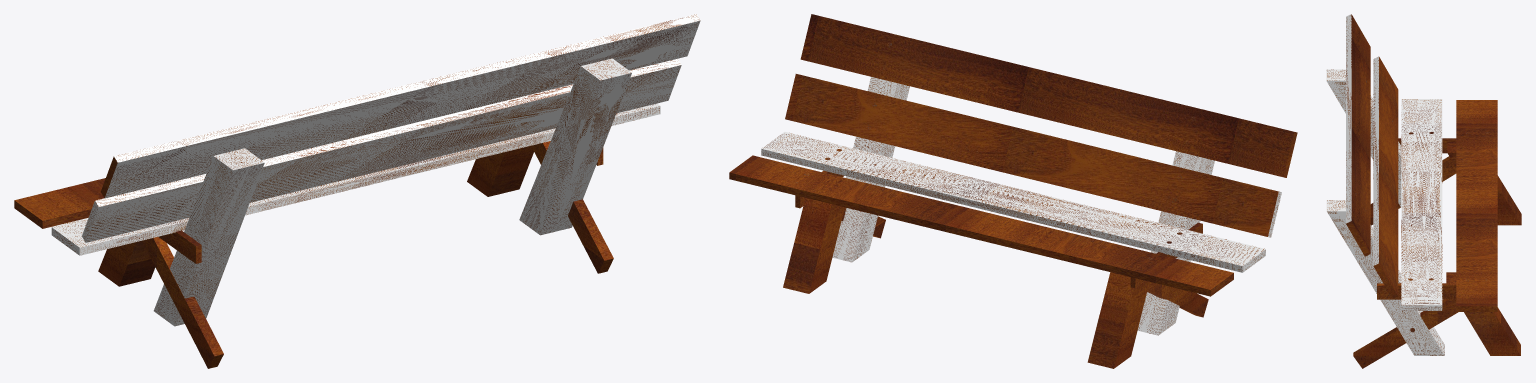
3 views of the same model, side by side, from view 1: azimuth 30°, elevation 25°; view 2: azimuth 150°, elevation 25°; view 3: azimuth 270°, elevation 25° (orthographic). The views are drawn at different scales.
Parts seen in each view (by area): view 1: mesh9_mesh9-geometry, mesh8_mesh8-geometry, mesh2_mesh2-geometry, mesh1_mesh1-geometry, mesh3_mesh3-geometry, mesh7_mesh7-geometry, mesh4_mesh4-geometry, mesh6_mesh6-geometry; view 2: mesh9_mesh9-geometry, mesh8_mesh8-geometry, mesh3_mesh3-geometry, mesh7_mesh7-geometry, mesh4_mesh4-geometry, mesh2_mesh2-geometry, mesh1_mesh1-geometry; view 3: mesh3_mesh3-geometry, mesh7_mesh7-geometry, mesh8_mesh8-geometry, mesh9_mesh9-geometry, mesh2_mesh2-geometry, mesh4_mesh4-geometry, mesh1_mesh1-geometry, mesh5_mesh5-geometry.
Boxes of the visible parts, x1,y1,x2,y2 form: mesh9_mesh9-geometry: (101, 14, 700, 198); mesh8_mesh8-geometry: (82, 58, 681, 242); mesh2_mesh2-geometry: (519, 58, 631, 235); mesh1_mesh1-geometry: (153, 148, 264, 326); mesh3_mesh3-geometry: (14, 141, 613, 273); mesh7_mesh7-geometry: (51, 103, 660, 255); mesh4_mesh4-geometry: (98, 237, 223, 368); mesh6_mesh6-geometry: (158, 230, 201, 263); mesh9_mesh9-geometry: (800, 14, 1297, 177); mesh8_mesh8-geometry: (785, 74, 1281, 237); mesh3_mesh3-geometry: (729, 155, 1233, 296); mesh7_mesh7-geometry: (761, 132, 1265, 272); mesh4_mesh4-geometry: (1087, 272, 1208, 368); mesh2_mesh2-geometry: (832, 77, 909, 262); mesh1_mesh1-geometry: (1137, 151, 1214, 335); mesh3_mesh3-geometry: (1353, 100, 1520, 368); mesh7_mesh7-geometry: (1401, 99, 1442, 310); mesh8_mesh8-geometry: (1373, 56, 1398, 298); mesh9_mesh9-geometry: (1346, 14, 1370, 256); mesh2_mesh2-geometry: (1326, 200, 1444, 355); mesh4_mesh4-geometry: (1370, 141, 1521, 225); mesh1_mesh1-geometry: (1326, 69, 1401, 207); mesh5_mesh5-geometry: (1377, 283, 1456, 299).
Size of the model in its own units: 0.871 by 0.3475 by 0.3472.
